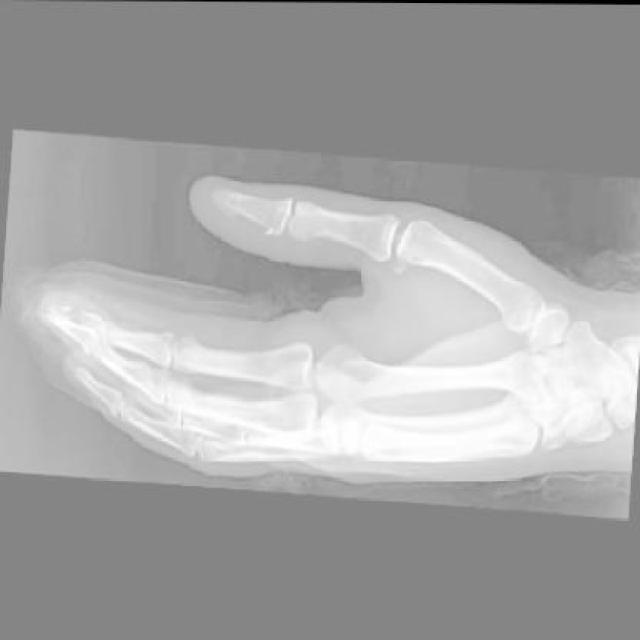Fracture: (35, 304, 108, 344)
